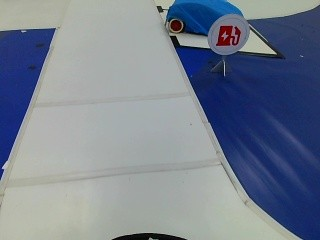battery: (208, 13, 244, 53)
car: (159, 0, 251, 34)
